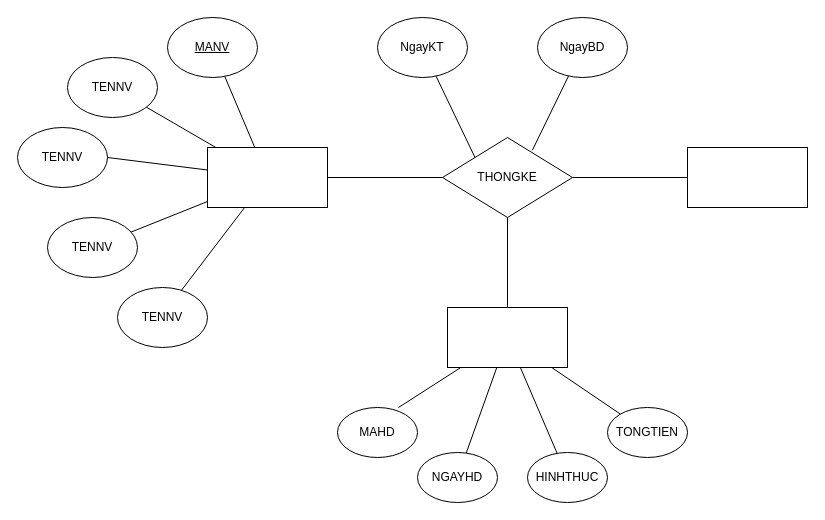
Some shapes in this 825 by 520 pixel diagram are drawn without their labels. The shapes that lost their labels are listed below. From the top down, each one's box as (x1, y1, x2, y2) in pixels, then its label:
(206, 146, 328, 208): NHANVIEN
(686, 146, 808, 208): NHAPXUAT
(446, 306, 568, 368): HOADON
